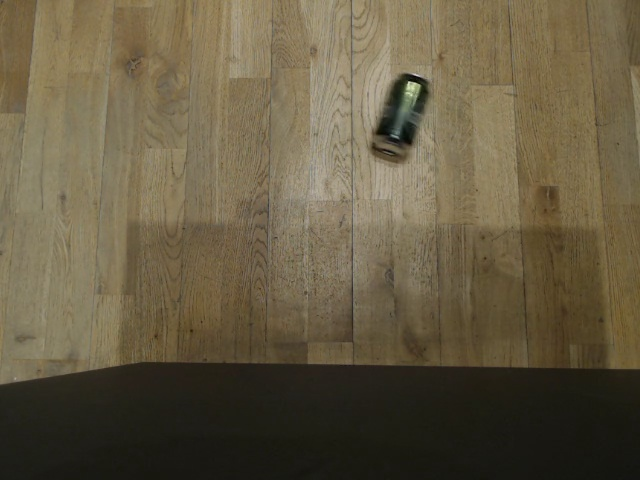beer: (369, 70, 430, 160)
